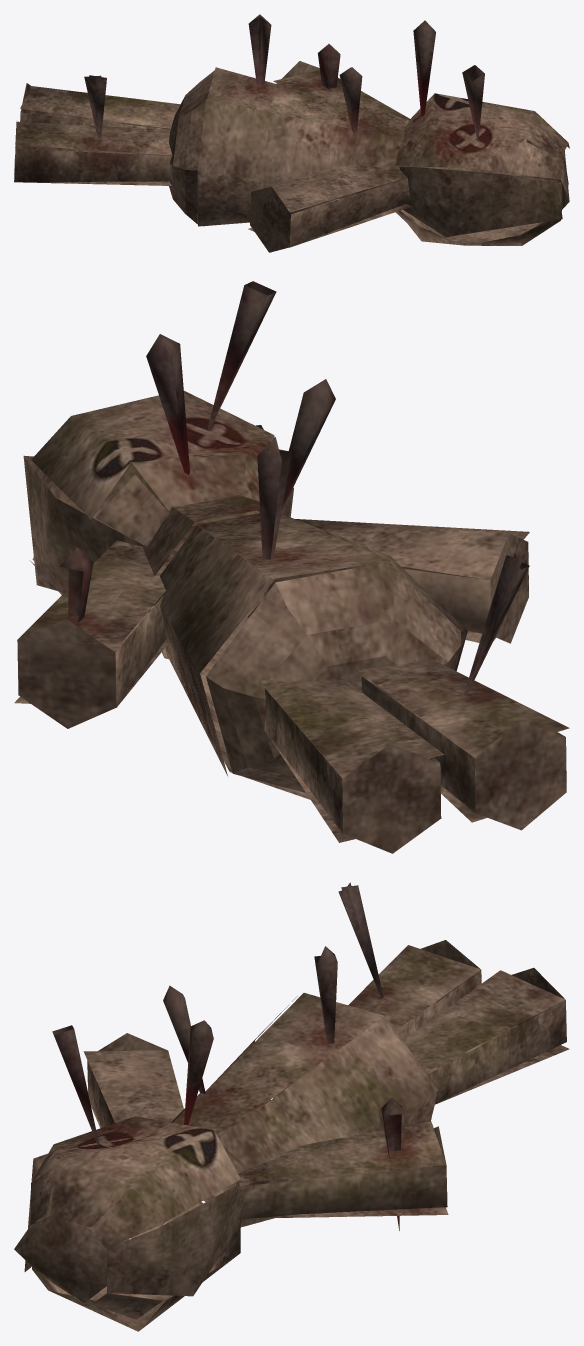
3 renders of one model, top to bottom at view 1: azimuth 30°, elevation 25°; view 2: azimuth 150°, elevation 25°; view 3: azimuth 270°, elevation 25°, orthographic. The views are drawn at different scales.
Parts seen in each view (by area): view 1: Sphere001_Voodoo Doll_0; view 2: Sphere001_Voodoo Doll_0; view 3: Sphere001_Voodoo Doll_0.
Boxes of the visible parts, x1,y1,x2,y2 form: Sphere001_Voodoo Doll_0: [14, 14, 569, 252]; Sphere001_Voodoo Doll_0: [14, 281, 569, 853]; Sphere001_Voodoo Doll_0: [14, 882, 569, 1331].
Size of the model in its own units: 12.56 by 5.73 by 10.79.
Materials: 1 (1 with a texture image).
